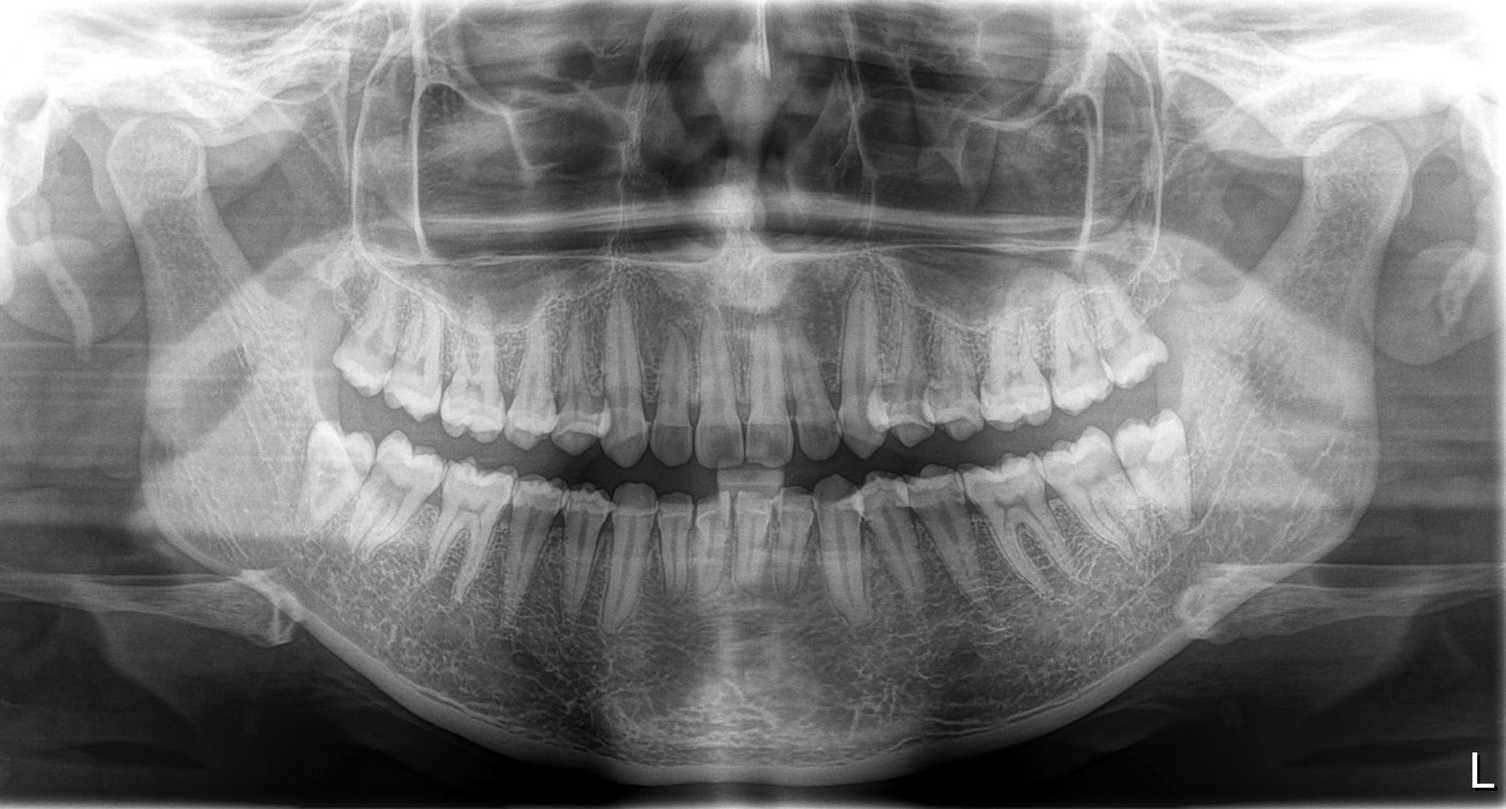Dental Caries: (649, 424, 696, 469)
